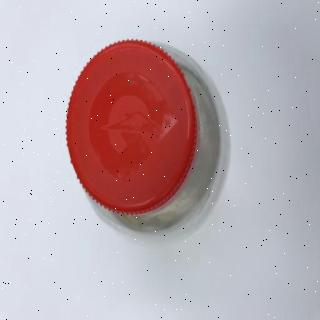Plastic-bottle: (64, 39, 234, 255)
